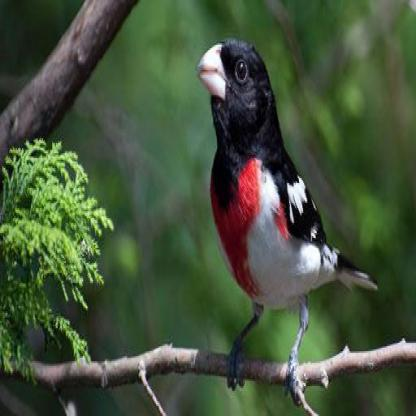other: (204, 151, 270, 303)
